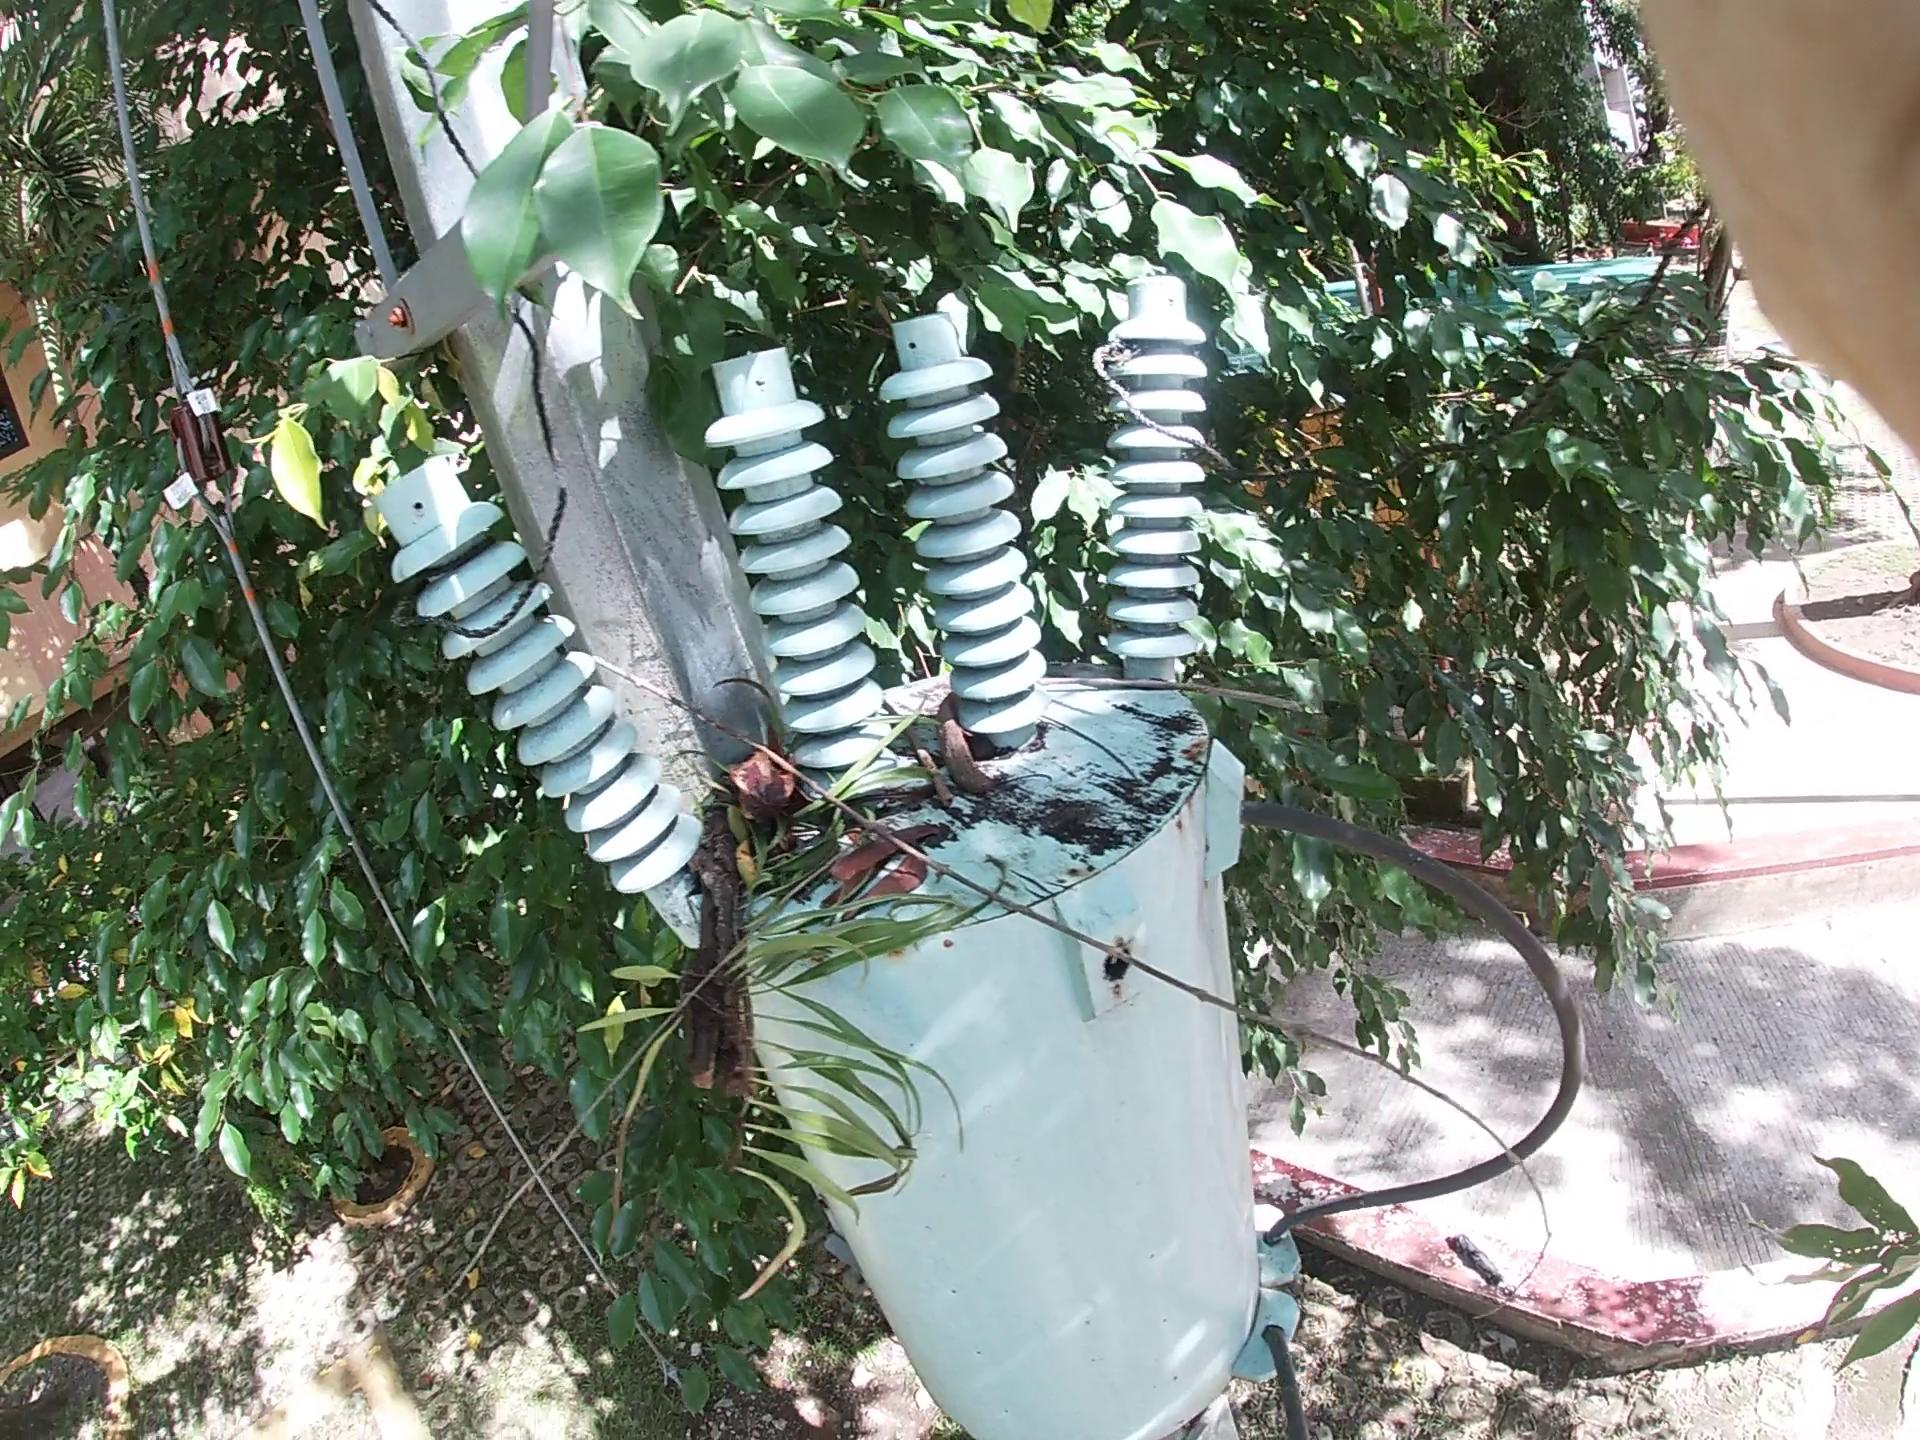branch with leaves: (568, 731, 901, 1215)
leaf: (831, 805, 983, 936)
mahogany fruit: (881, 632, 1057, 830), (720, 700, 841, 836)
tree branch: (641, 717, 1657, 1189), (892, 585, 1311, 749), (839, 691, 1081, 917)
